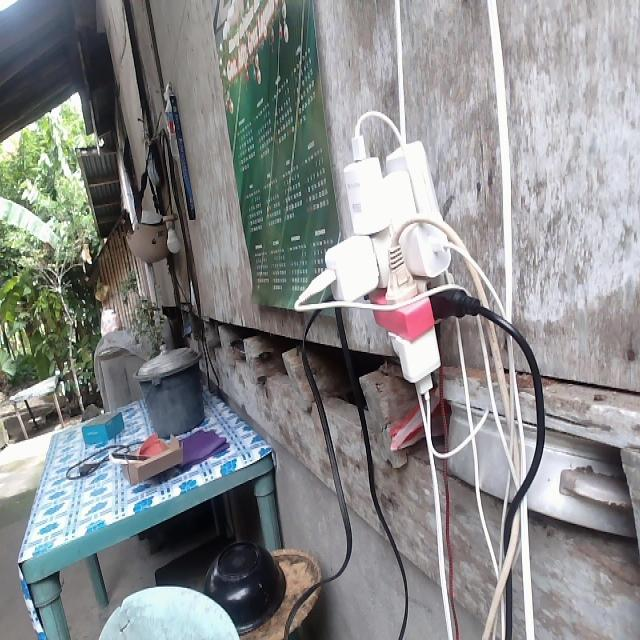-: (302, 125, 481, 403)
